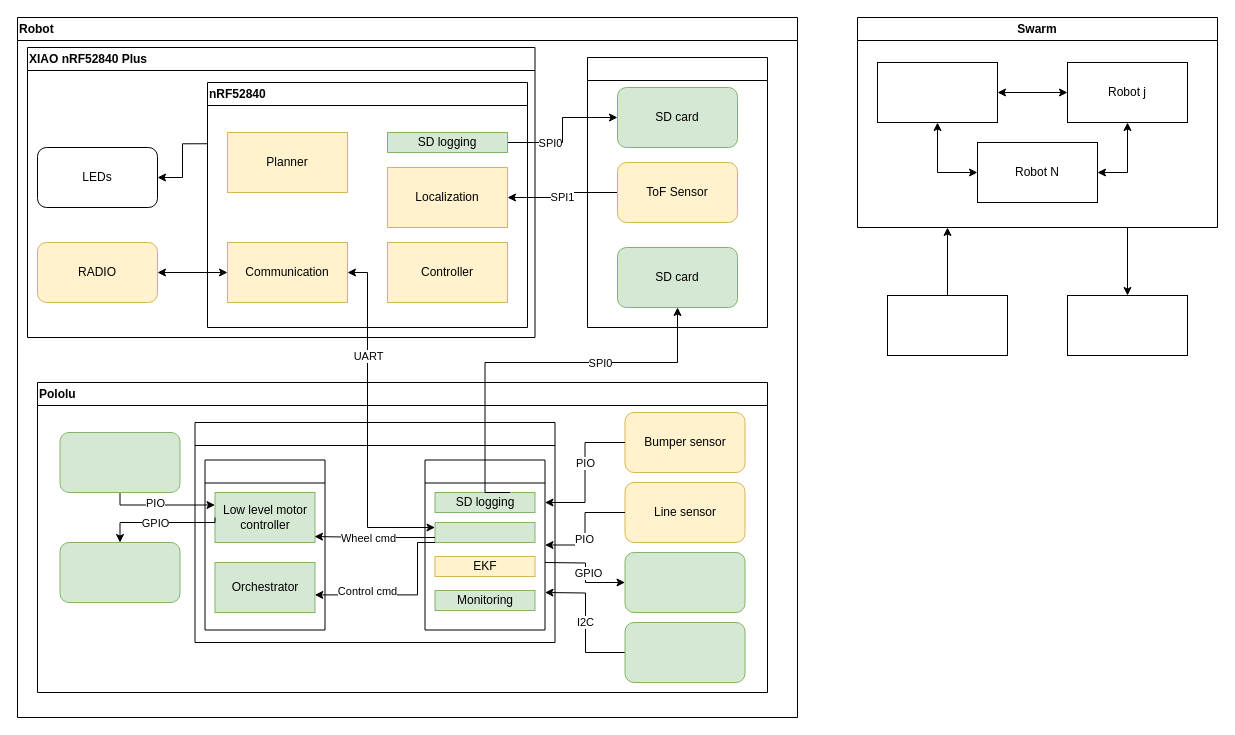
Image size: 1235x735. Some labels were removed from this diagram. The shapes that lost their labels are listed below. From the top down, each one's box as (x1, y1, x2, y2) in pixels, then its label:
(876, 62, 998, 122): Robot i
(586, 56, 768, 328): Breakout board
(886, 294, 1008, 356): Joystick control
(1066, 294, 1188, 356): Sniffer
(59, 432, 180, 492): Encoder
(204, 459, 325, 630): Core0
(194, 422, 555, 642): RP2040
(434, 522, 535, 542): UART tasks
(424, 459, 545, 630): Core1
(59, 542, 180, 602): Motors
(624, 552, 745, 612): LED Buzzer Buttons
(624, 622, 745, 682): IMU
